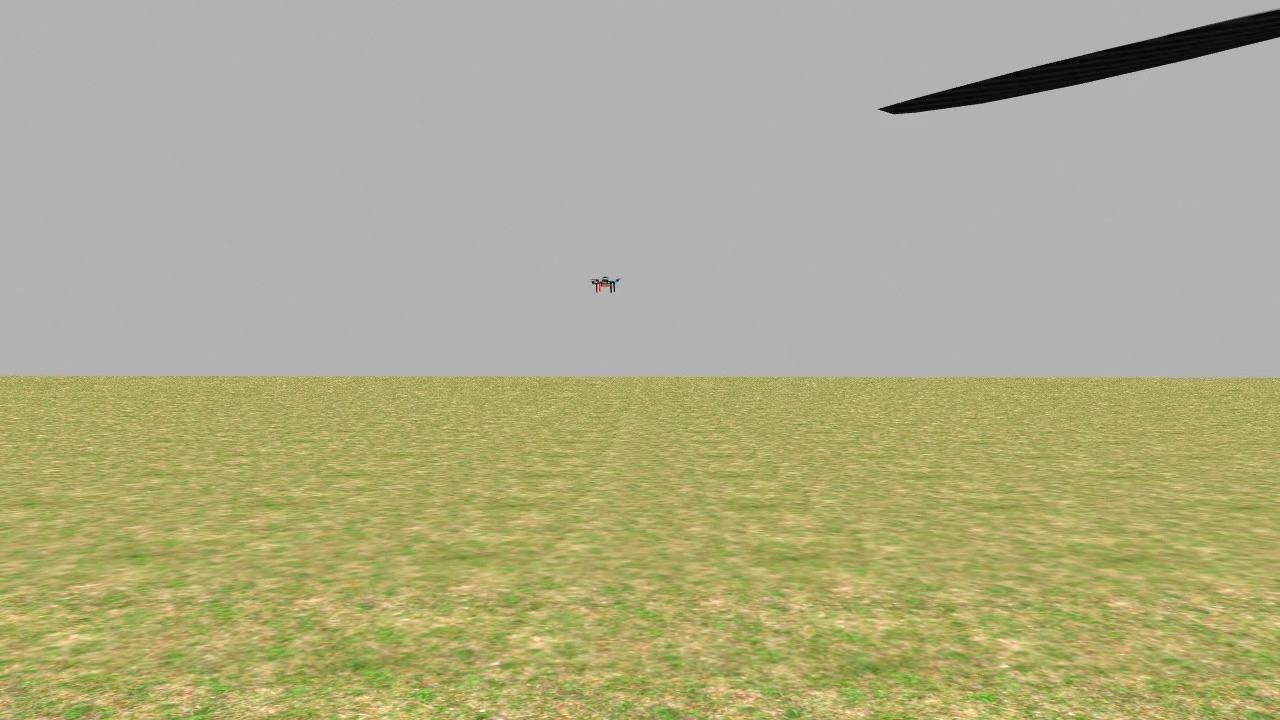UAV: (582, 267, 626, 306)
